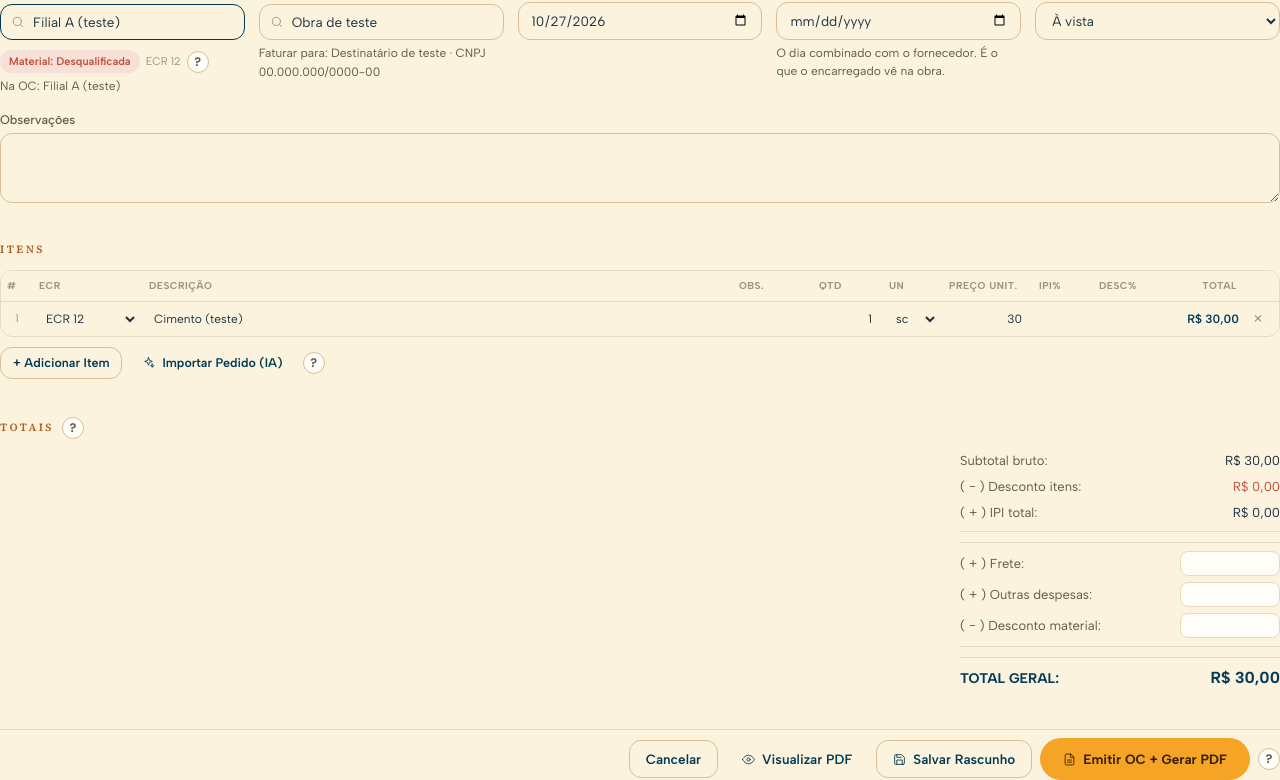
Test: D605 — a porta "Emitir OC" da Nova OC › desqualificada: zero gravação
(page scrolled)
Click the button "Emitir OC + Gerar PDF". click: x=1145, y=759
box: [1040, 738, 1250, 779]
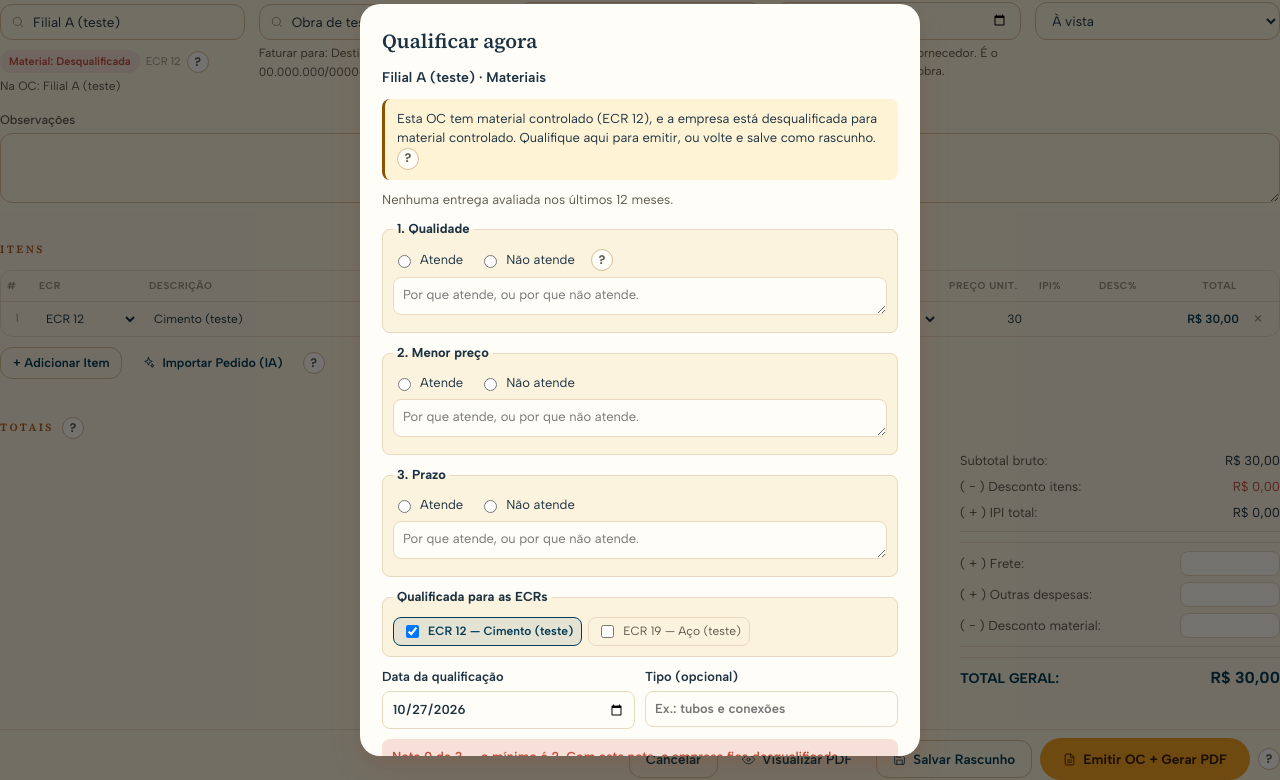
Now the text "desqualificada" is shown, box [397, 111, 877, 145]
